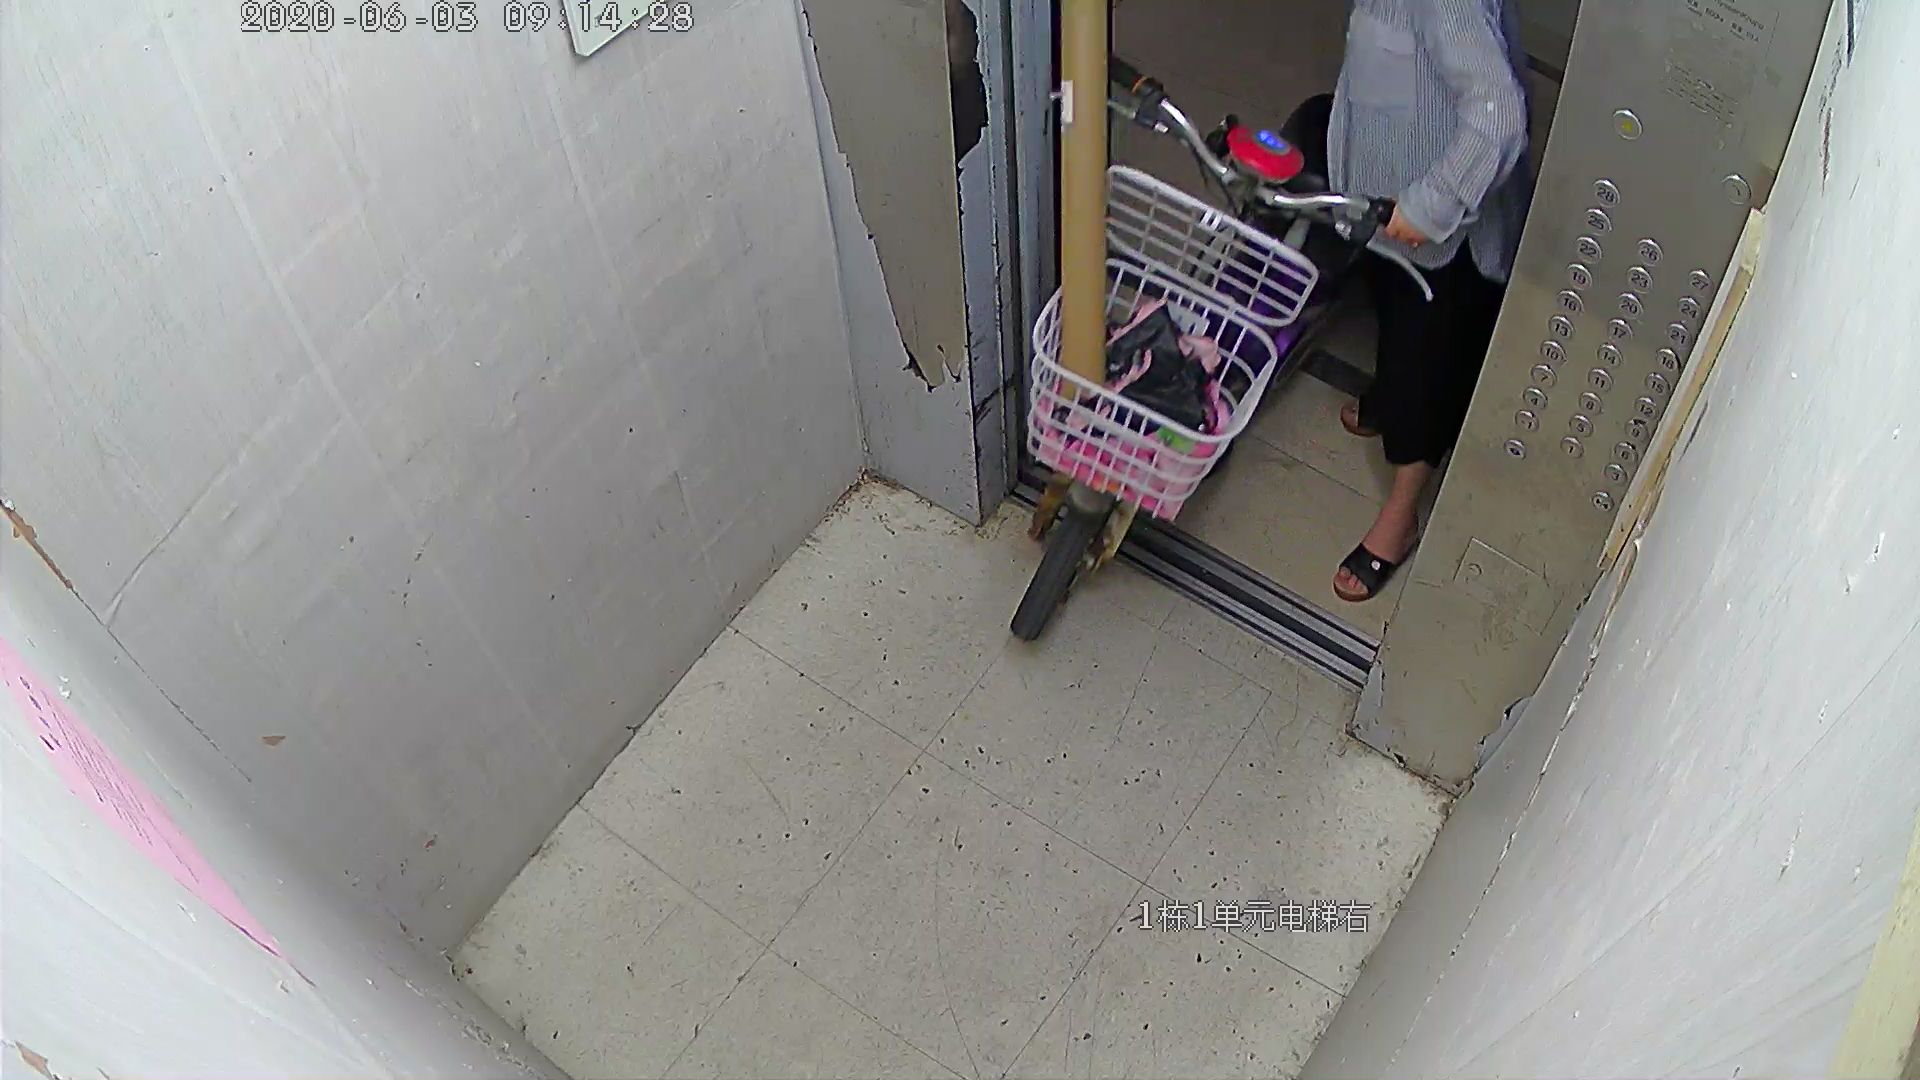Electric-bicycle: (1010, 50, 1447, 645)
